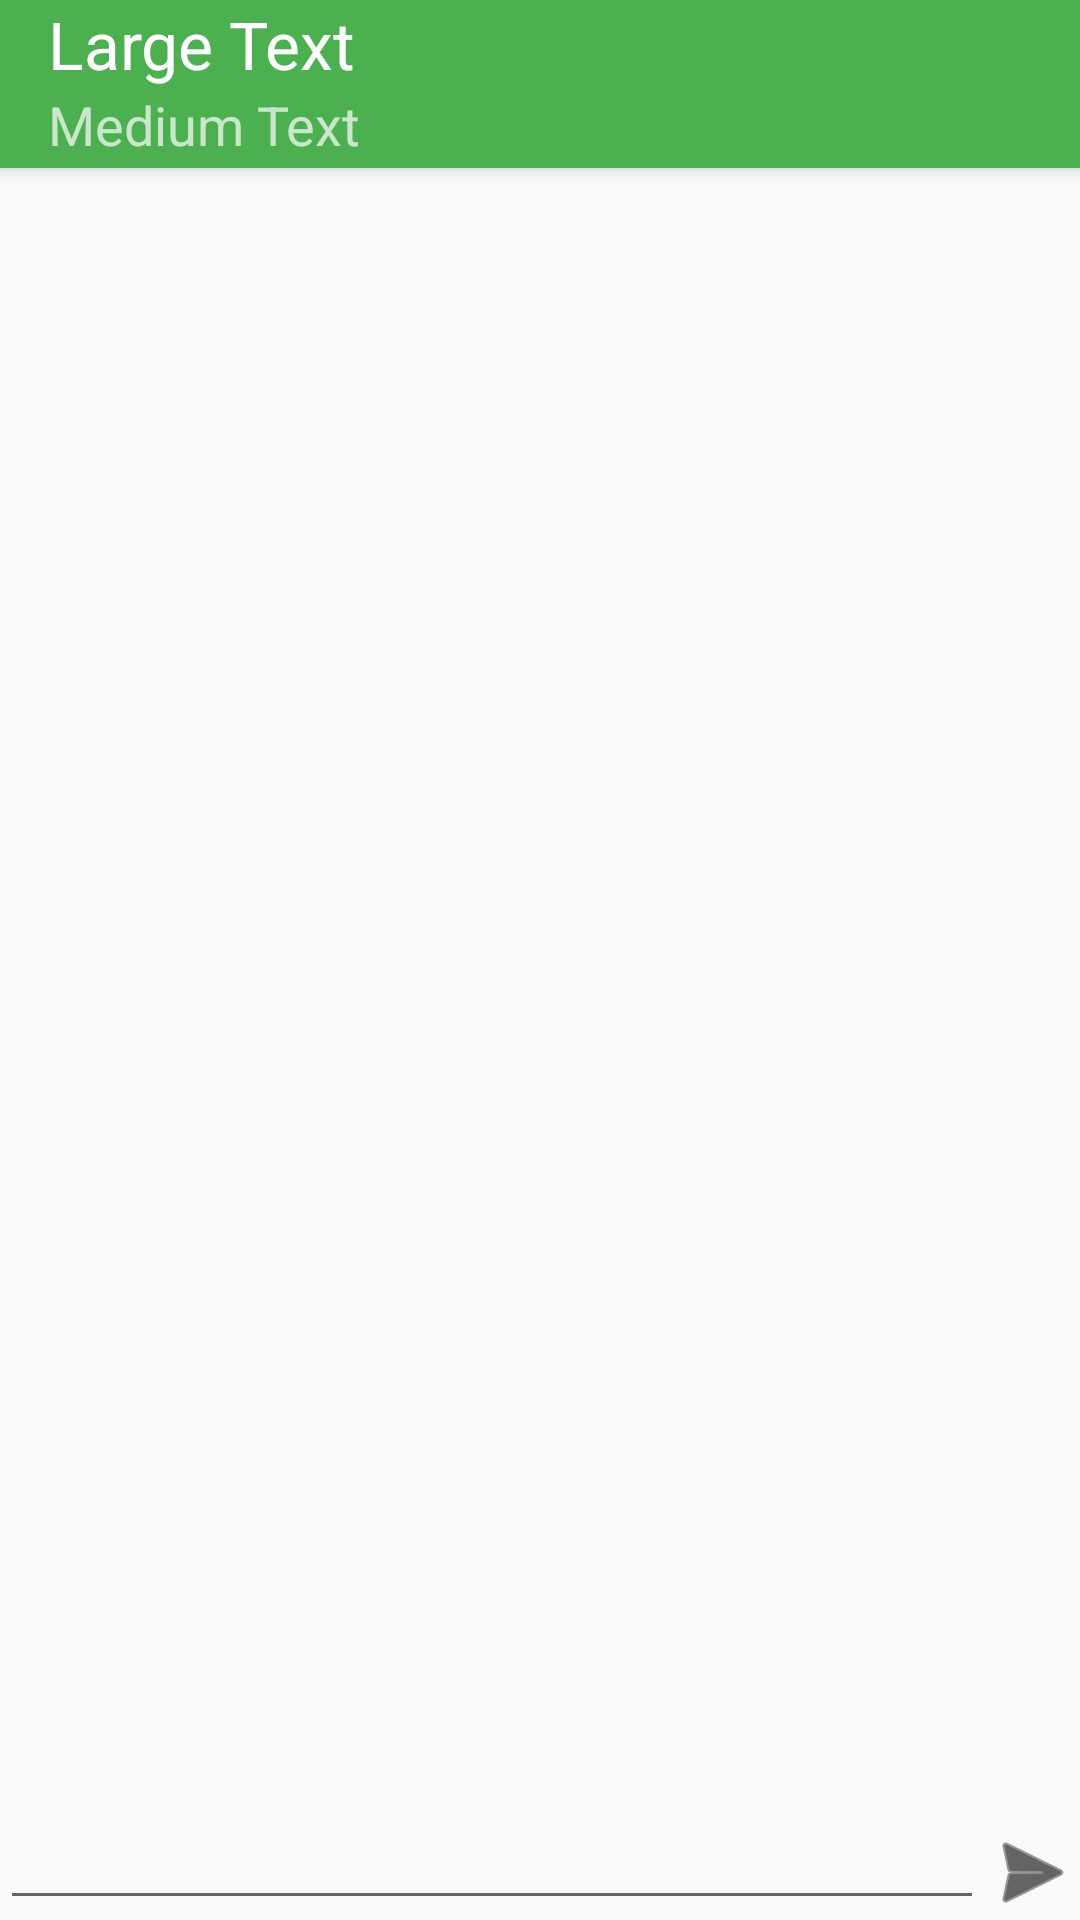

Icon bounding boxes for this 1080 × 1920 phone screenshot, format {"left": x1, "top": y1, "right": x2, "bottom": y2}:
send: {"left": 1002, "top": 1842, "right": 1064, "bottom": 1903}
